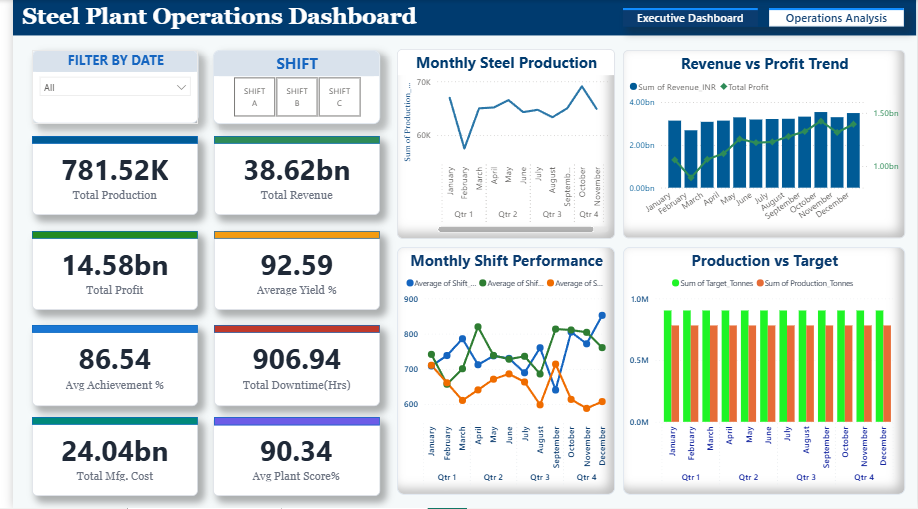

This screenshot's page, from the dashboard's own definition file:
{"tool":"powerbi","page":{"name":"Executive Dashboard","canvas":[1280,720],"ordinal":0},"visuals":[{"type":"shape","box":[0,0,1279.8,50],"z":0},{"type":"slicer","title":"FILTER BY DATE","fields":{"Values":["steel daily_steel_plant_kpi_2025.Date"]},"box":[27,71.1,235.7,104.3],"z":0,"group":"g5"},{"type":"cardVisual","fields":{"Data":["steel daily_steel_plant_kpi_2025.Total Production"]},"box":[27.1,192.9,235.1,112],"z":0,"group":"g1"},{"type":"cardVisual","fields":{"Data":["steel daily_steel_plant_kpi_2025.Total Revenue"]},"box":[284.9,192.9,235.1,112],"z":0,"group":"g2"},{"type":"cardVisual","fields":{"Data":["steel daily_steel_plant_kpi_2025.Total Profit"]},"box":[27.1,327,235.1,112],"z":0,"group":"g10"},{"type":"cardVisual","fields":{"Data":["steel daily_steel_plant_kpi_2025.Average Yield"]},"box":[284.9,327,235.1,112],"z":0,"group":"g3"},{"type":"cardVisual","fields":{"Data":["steel daily_steel_plant_kpi_2025.Average Achievement"]},"box":[27.1,461.2,235.1,115],"z":0,"group":"g4"},{"type":"cardVisual","fields":{"Data":["steel daily_steel_plant_kpi_2025.Total Downtime"]},"box":[284.9,461.2,235.1,115],"z":0,"group":"g8"},{"type":"cardVisual","fields":{"Data":["steel daily_steel_plant_kpi_2025.Average Plant Health Score"]},"box":[283.6,590.7,236.5,112],"z":0,"group":"g9"},{"type":"cardVisual","fields":{"Data":["steel daily_steel_plant_kpi_2025.Total Manufacturing Cost"]},"box":[27.1,590.9,235.1,112],"z":0,"group":"g6"},{"type":"textbox","box":[0,0,1279.8,50],"z":1000},{"type":"slicer","title":"SHIFT","fields":{"Values":["SHIFT_FILTER.SHIFT"]},"box":[283.4,70.9,236.7,104.9],"z":1000,"group":"g5"},{"type":"shape","box":[27.1,192.9,234.8,10.8],"z":1000,"group":"g1"},{"type":"shape","box":[284.9,192.9,234.8,10.8],"z":1000,"group":"g2"},{"type":"shape","box":[27.1,327,234.8,10.8],"z":1000,"group":"g10"},{"type":"shape","box":[284.9,327,234.8,10.8],"z":1000,"group":"g3"},{"type":"shape","box":[27.1,461.2,234.8,11.1],"z":1000,"group":"g4"},{"type":"shape","box":[284.9,461.2,234.8,11.1],"z":1000,"group":"g8"},{"type":"shape","box":[27.1,590.9,234.8,10.8],"z":1000,"group":"g6"},{"type":"shape","box":[284.8,590.9,234.8,11.8],"z":1000,"group":"g9"},{"type":"lineChart","title":"Monthly Steel Production","fields":{"Y":["Sum(steel daily_steel_plant_kpi_2025.Production_Tonnes)"],"Category":["steel downtime_reason_breakdown_2025.Date.Variation.Date Hierarchy.Quarter","steel downtime_reason_breakdown_2025.Date.Variation.Date Hierarchy.Month"]},"box":[544.3,70,308.6,268.6],"z":2000},{"type":"lineClusteredColumnComboChart","title":"Revenue vs Profit Trend","fields":{"Y":["Sum(steel daily_steel_plant_kpi_2025.Revenue_INR)"],"Y2":["steel daily_steel_plant_kpi_2025.Total Profit"],"Category":["steel downtime_reason_breakdown_2025.Date.Variation.Date Hierarchy.Month"]},"box":[864.3,71.4,400,267.1],"z":3000},{"type":"group","id":"g1","title":"Group 1","box":[27.1,192.9,235.1,112],"z":3000,"group":"g7"},{"type":"group","id":"g2","title":"Group 1","box":[284.9,192.9,235.1,112],"z":4000,"group":"g7"},{"type":"clusteredColumnChart","title":"Production vs Target","fields":{"Category":["steel shift_wise_production_2025.Month.Variation.Date Hierarchy.Quarter","steel shift_wise_production_2025.Month.Variation.Date Hierarchy.Month"],"Y":["Sum(steel daily_steel_plant_kpi_2025.Target_Tonnes)","Sum(steel daily_steel_plant_kpi_2025.Production_Tonnes)"]},"box":[864.3,350,400,351.4],"z":4000},{"type":"group","id":"g3","title":"Group 1","box":[284.9,327,235.1,112],"z":5000,"group":"g7"},{"type":"lineChart","title":"Monthly Shift Performance","fields":{"Category":["steel shift_wise_production_2025.Month.Variation.Date Hierarchy.Quarter","steel shift_wise_production_2025.Month.Variation.Date Hierarchy.Month"],"Y":["Avg(steel shift_wise_production_2025.Shift_A_Production_Tonnes)","Avg(steel shift_wise_production_2025.Shift_B_Production_Tonnes)","Avg(steel shift_wise_production_2025.Shift_C_Production_Tonnes)"]},"box":[544.3,350,308.6,351.4],"z":5000},{"type":"group","id":"g4","title":"Group 1","box":[27.1,461.2,235.1,115],"z":6000,"group":"g7"},{"type":"group","id":"g5","title":"Group 2","box":[27,70.9,493.1,104.9],"z":7000},{"type":"group","id":"g6","title":"Group 1","box":[27.1,590.9,235.1,112],"z":7000,"group":"g7"},{"type":"group","id":"g7","title":"Group 3","box":[27.1,192.9,492.9,510],"z":8000},{"type":"group","id":"g8","title":"Group 1","box":[284.9,461.2,235.1,115],"z":8000,"group":"g7"},{"type":"pageNavigator","box":[864.6,11.3,399.7,26.9],"z":9000},{"type":"group","id":"g9","title":"Group 1","box":[283.6,590.7,236.5,112],"z":9000,"group":"g7"},{"type":"group","id":"g10","title":"Group 1","box":[27.1,327,235.1,112],"z":10000,"group":"g7"}]}

Visuals, with their boxes in screenshot pixels (x1, y1, x2, y2), scaled from the page's 1280x720 canvas onto the 918x509 screenshot:
shape: (0, 0, 917, 35)
"FILTER BY DATE" slicer: (19, 50, 188, 124)
cardVisual - steel daily_steel_plant_kpi_2025.Total Production: (19, 136, 188, 216)
cardVisual - steel daily_steel_plant_kpi_2025.Total Revenue: (204, 136, 373, 216)
cardVisual - steel daily_steel_plant_kpi_2025.Total Profit: (19, 231, 188, 310)
cardVisual - steel daily_steel_plant_kpi_2025.Average Yield: (204, 231, 373, 310)
cardVisual - steel daily_steel_plant_kpi_2025.Average Achievement: (19, 326, 188, 407)
cardVisual - steel daily_steel_plant_kpi_2025.Total Downtime: (204, 326, 373, 407)
cardVisual - steel daily_steel_plant_kpi_2025.Average Plant Health Score: (203, 418, 373, 497)
cardVisual - steel daily_steel_plant_kpi_2025.Total Manufacturing Cost: (19, 418, 188, 497)
textbox: (0, 0, 917, 35)
"SHIFT" slicer: (203, 50, 373, 124)
shape: (19, 136, 188, 144)
shape: (204, 136, 373, 144)
shape: (19, 231, 188, 239)
shape: (204, 231, 373, 239)
shape: (19, 326, 188, 334)
shape: (204, 326, 373, 334)
shape: (19, 418, 188, 425)
shape: (204, 418, 373, 426)
"Monthly Steel Production" lineChart: (390, 49, 612, 239)
"Revenue vs Profit Trend" lineClusteredColumnComboChart: (620, 50, 907, 239)
"Group 1" group: (19, 136, 188, 216)
"Group 1" group: (204, 136, 373, 216)
"Production vs Target" clusteredColumnChart: (620, 247, 907, 496)
"Group 1" group: (204, 231, 373, 310)
"Monthly Shift Performance" lineChart: (390, 247, 612, 496)
"Group 1" group: (19, 326, 188, 407)
"Group 2" group: (19, 50, 373, 124)
"Group 1" group: (19, 418, 188, 497)
"Group 3" group: (19, 136, 373, 497)
"Group 1" group: (204, 326, 373, 407)
pageNavigator: (620, 8, 907, 27)
"Group 1" group: (203, 418, 373, 497)
"Group 1" group: (19, 231, 188, 310)
